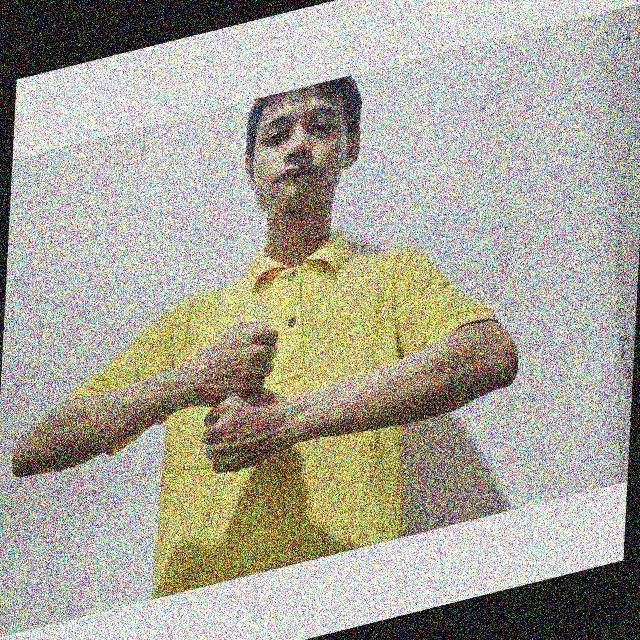G: (188, 313, 290, 483)
